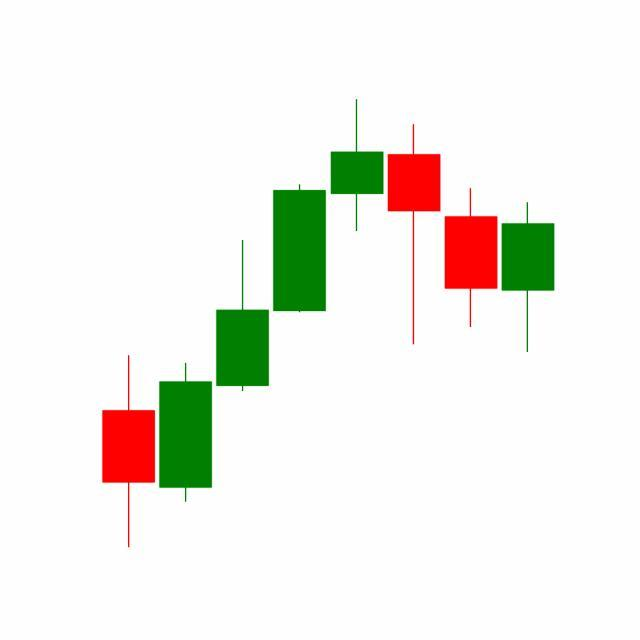Hikkake Pattern: (270, 99, 555, 357)
